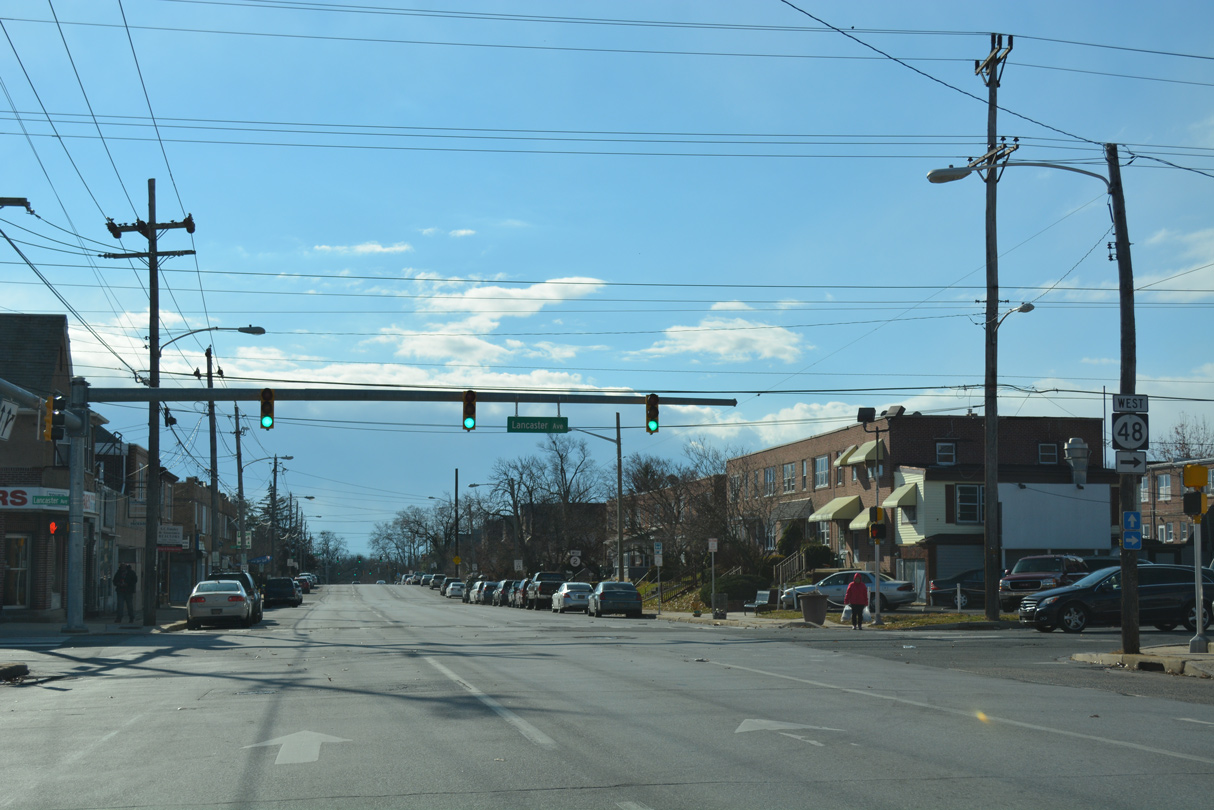traffic_light: (258, 387, 277, 432), (460, 389, 479, 434), (643, 392, 662, 436)
